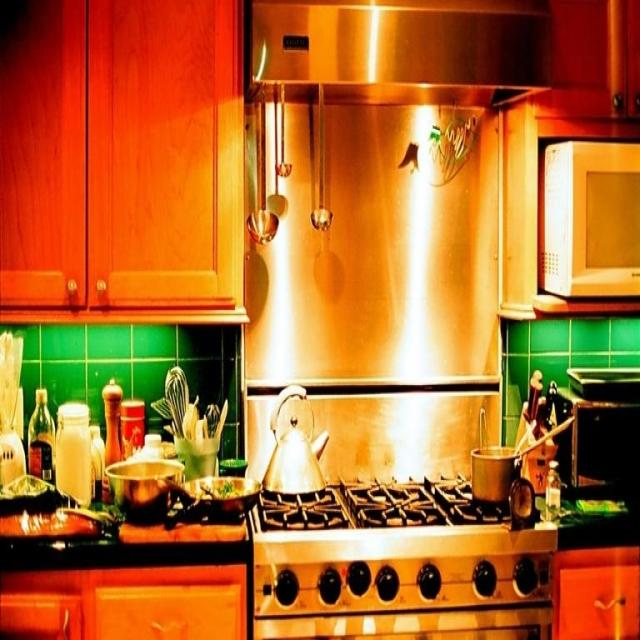E-waste: (541, 128, 640, 301), (506, 473, 540, 529)
Metal: (261, 480, 505, 534)
